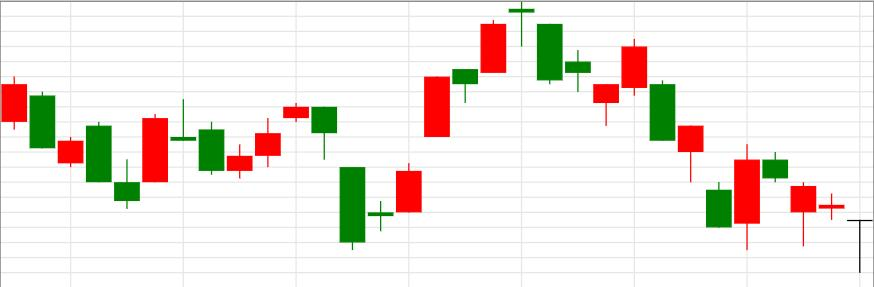evening_star_fall: (368, 1, 562, 231)
